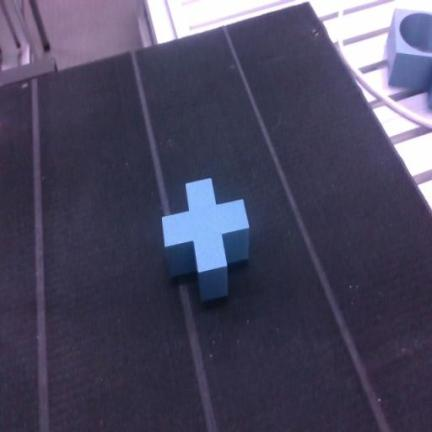cross: (162, 179, 248, 301)
